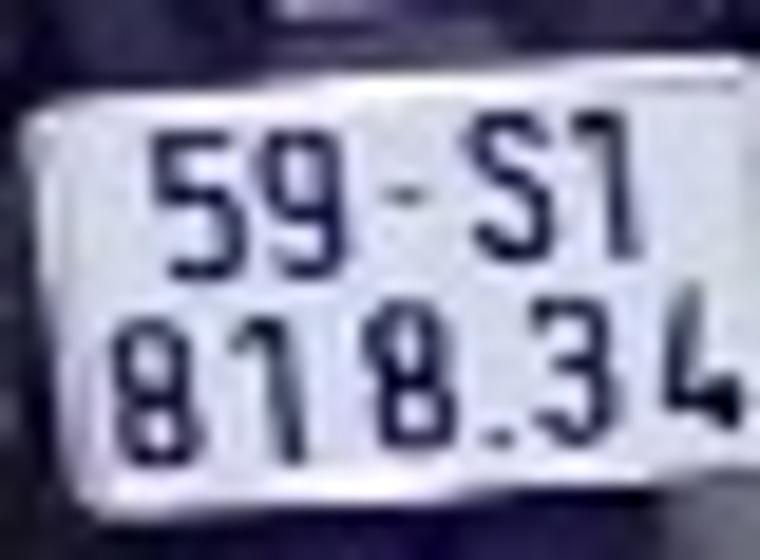-: (387, 186, 423, 200)
.: (490, 425, 510, 445)
1: (571, 103, 635, 262), (236, 314, 297, 467)
3: (531, 295, 617, 446)
4: (657, 289, 742, 432)
5: (150, 129, 247, 279)
8: (361, 300, 457, 452), (109, 315, 201, 468)
9: (258, 129, 346, 276)
S: (463, 108, 554, 265)
